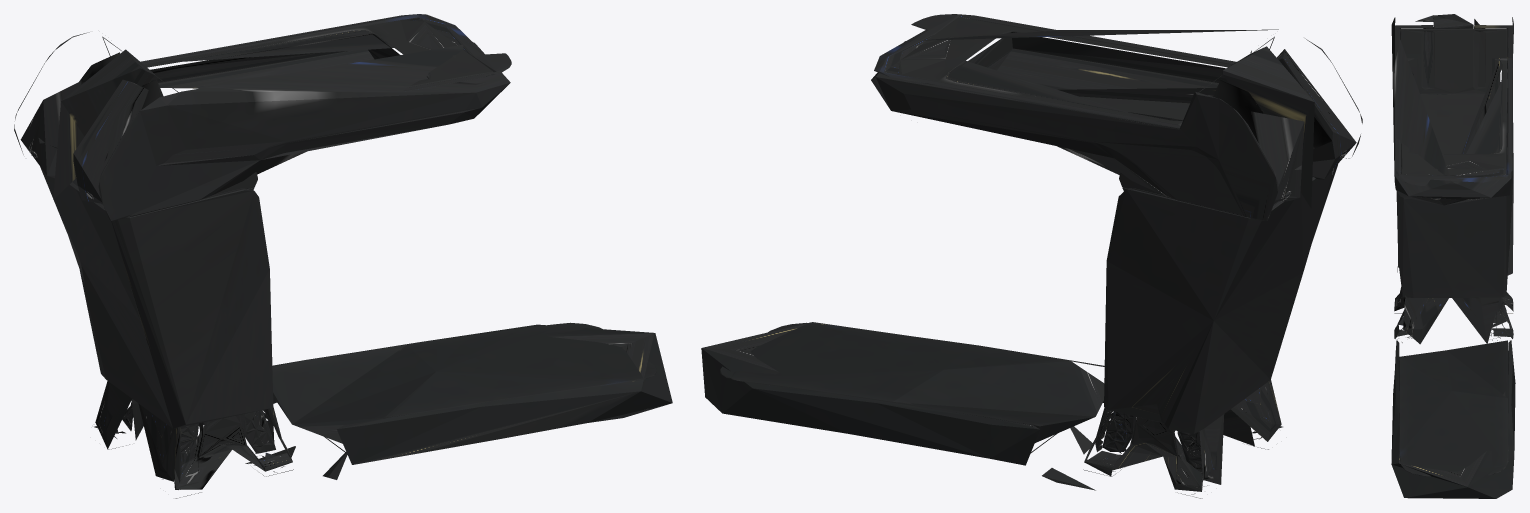
Rendered from interiorPart_armrest_assembly_c01.glb.
3 renders of one model, left to right at view 1: azimuth 30°, elevation 25°; view 2: azimuth 150°, elevation 25°; view 3: azimuth 270°, elevation 25°, orthographic. The views are drawn at different scales.
Visible parts, largest first — view 1: geometry_0; view 2: geometry_0; view 3: geometry_0.
Boxes of the visible parts, x1,y1,x2,y2 form: geometry_0: (14, 14, 672, 498); geometry_0: (701, 14, 1362, 498); geometry_0: (1391, 14, 1515, 498).
Bounding box in the file's own units: 0.42 × 0.302 × 0.1066.
Materials: 1 (1 with a texture image).
